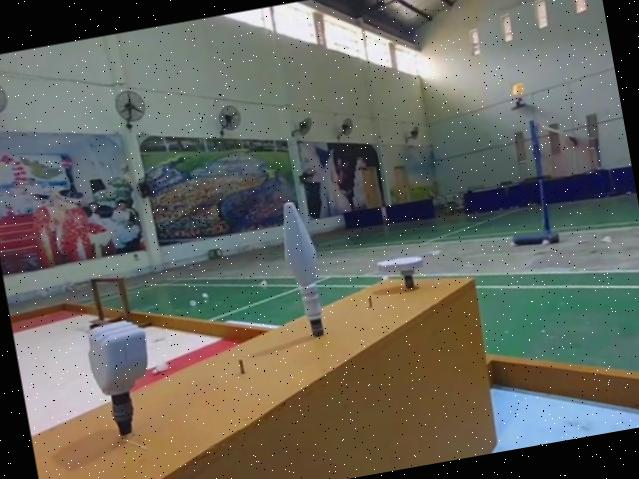Fist: (82, 308, 167, 441)
Hand: (377, 250, 428, 292)
Sph: (272, 197, 332, 345)
